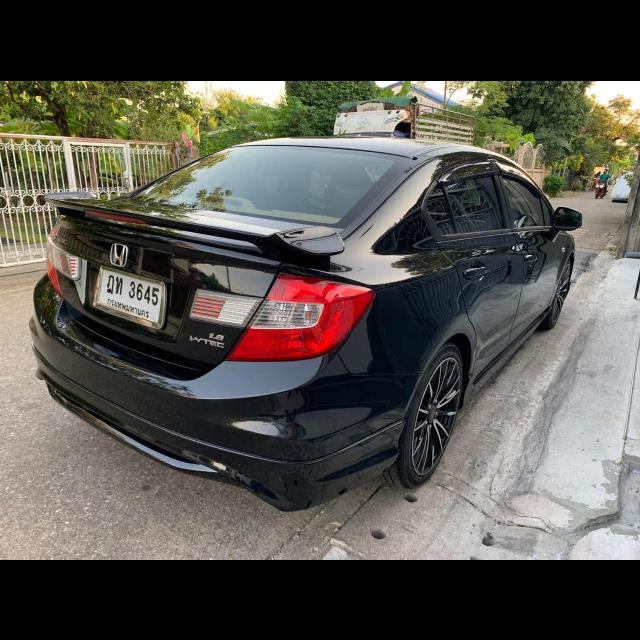cars: (25, 125, 589, 519)
